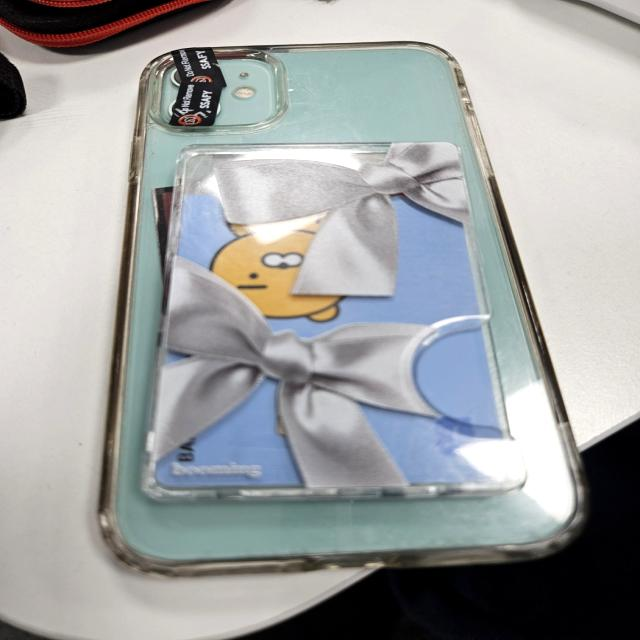phone: (104, 39, 579, 570)
sticker: (171, 46, 226, 91), (171, 79, 217, 127)
